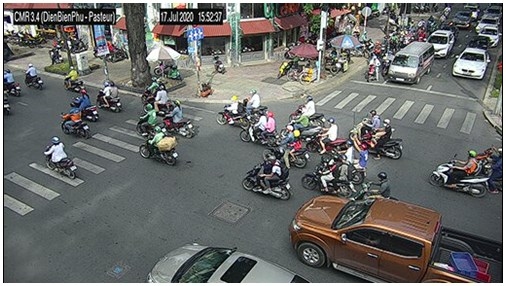xe_ban_tai: (289, 197, 503, 282)
xe_hoi: (146, 242, 310, 282), (453, 47, 489, 80), (428, 30, 455, 58), (479, 25, 499, 47), (470, 35, 490, 53), (453, 10, 472, 28), (477, 14, 499, 29)
xe_may: (431, 149, 488, 198), (243, 154, 292, 199), (302, 155, 354, 197), (321, 138, 369, 183), (360, 118, 403, 160), (140, 125, 178, 165), (307, 118, 348, 155), (240, 110, 279, 146), (348, 110, 396, 138), (45, 137, 77, 179), (165, 98, 195, 138), (283, 108, 320, 140), (480, 145, 502, 194), (288, 95, 325, 124), (355, 172, 393, 200), (61, 102, 90, 138), (216, 96, 249, 127), (72, 90, 100, 122), (142, 86, 171, 115), (98, 81, 122, 113), (137, 103, 162, 133), (245, 89, 267, 123), (141, 75, 167, 101), (23, 63, 45, 90), (64, 66, 85, 92), (5, 70, 22, 97), (366, 54, 379, 82), (381, 50, 393, 78), (443, 6, 451, 19)
